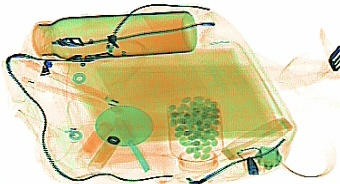glassbottle: (30, 8, 196, 60), (254, 145, 281, 170)
jswkdaopian: (113, 115, 150, 171)
